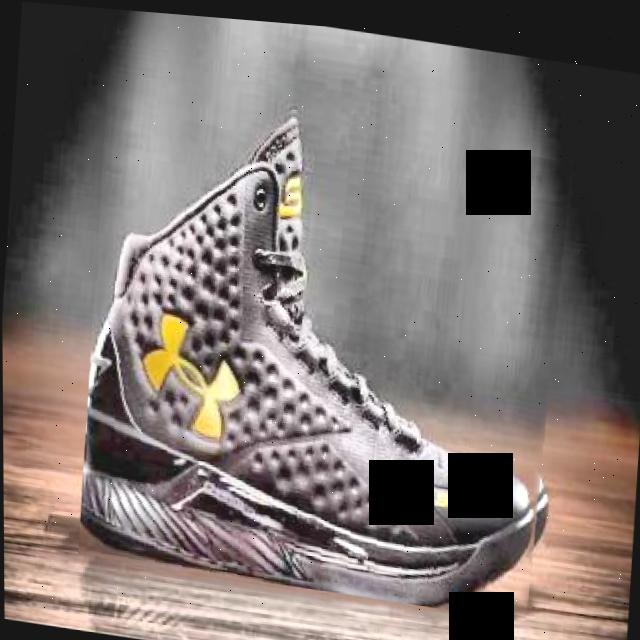shoe: (74, 71, 575, 616)
